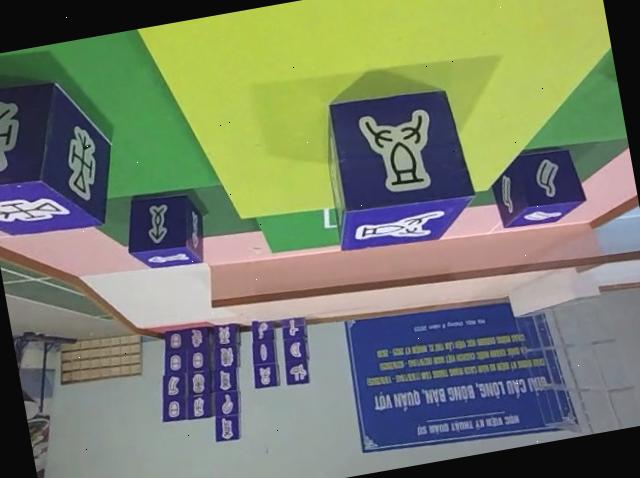R2 Real Blue: (313, 80, 481, 257), (0, 64, 123, 242), (486, 138, 589, 230), (120, 183, 213, 274)
